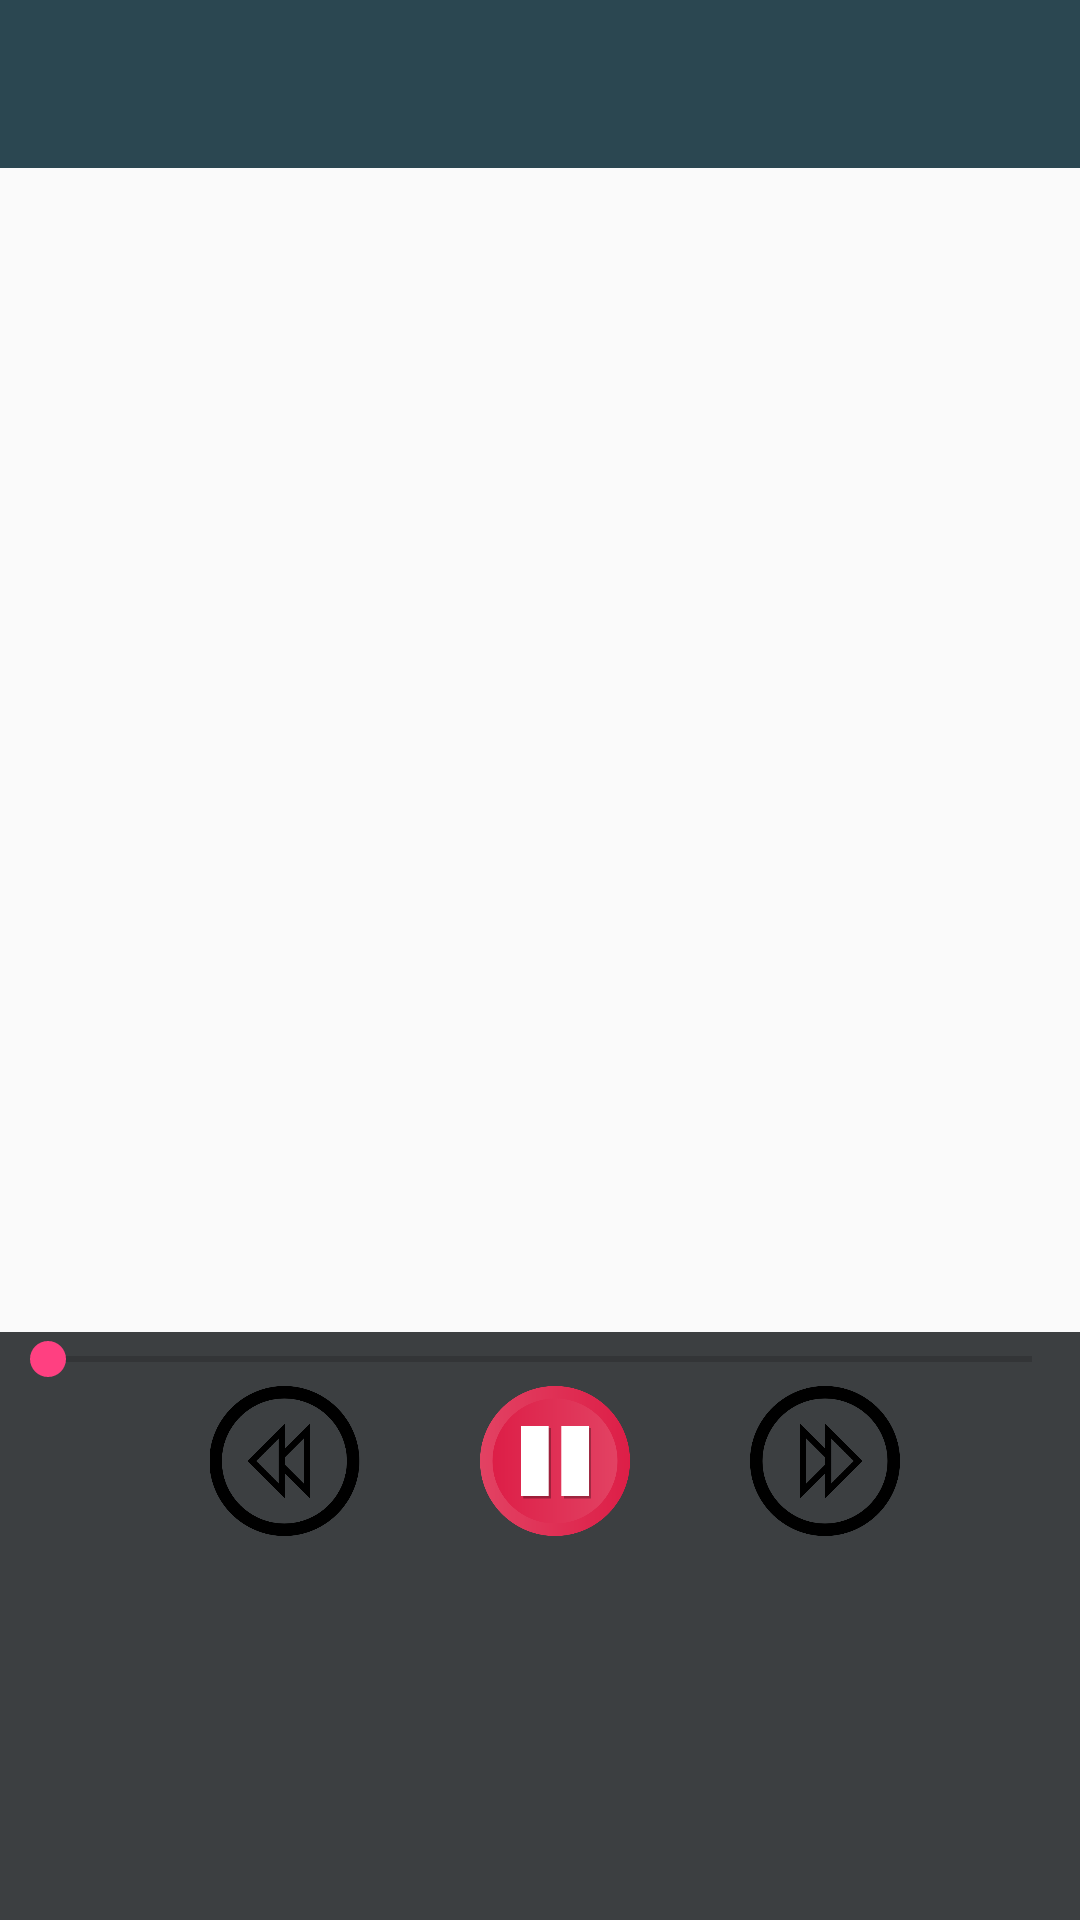

Point at icon controls on the screen. Image size 1080px×1920px, points as [x,y].
next: [825,1461]
pause: [555,1461]
previous: [284,1461]
